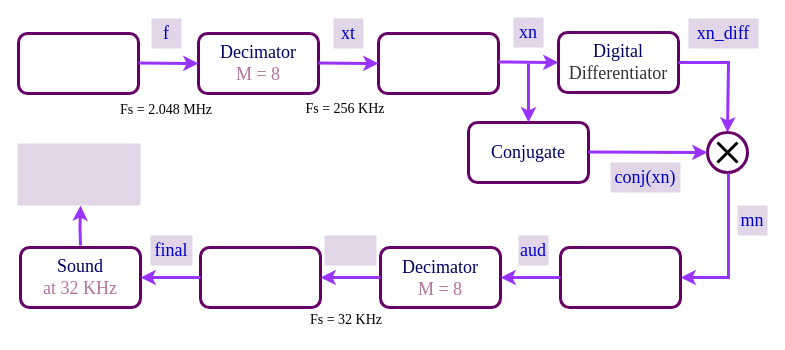
Some shapes in this 785 by 350 pixel diagram are drawn without their labels. The centre of each missing label's shape, as x and y in pixels:
"audio" goes at point (350, 250).
"Imaginary imag(mn)" goes at point (620, 277).
"Load rf-data.dat" goes at point (78, 63).
"Low Pass Filter fc = 20kHz" goes at point (260, 277).
"Normalizer" goes at point (438, 63).
"Output Message" goes at point (78, 174).
